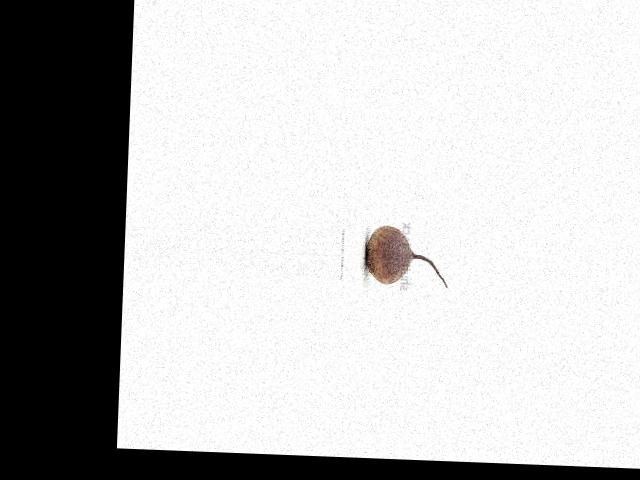beet: (364, 223, 450, 287)
